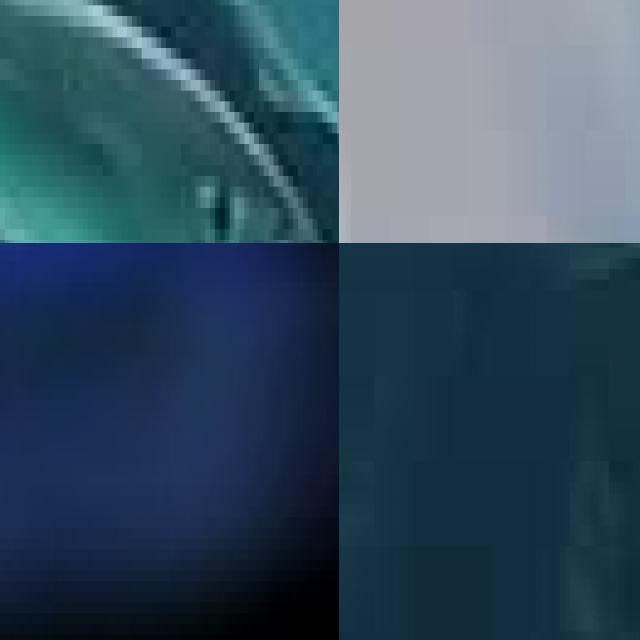fish: (0, 243, 339, 640), (0, 0, 339, 243)
